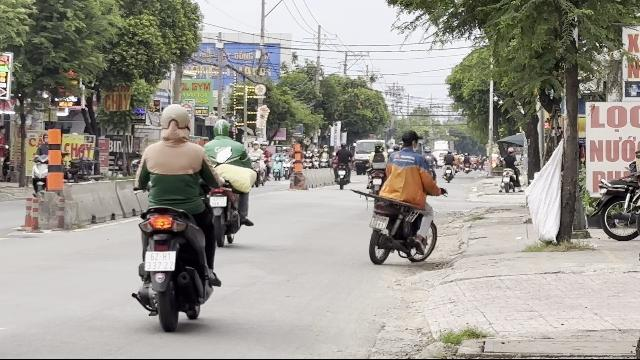helmet: (158, 104, 192, 140), (212, 119, 230, 137)
licenseplate: (145, 251, 177, 271), (369, 216, 389, 229), (210, 197, 227, 207)
motorcyclist: (129, 100, 225, 330), (365, 127, 443, 265), (200, 118, 256, 246)
nohelmet: (400, 130, 420, 150)
